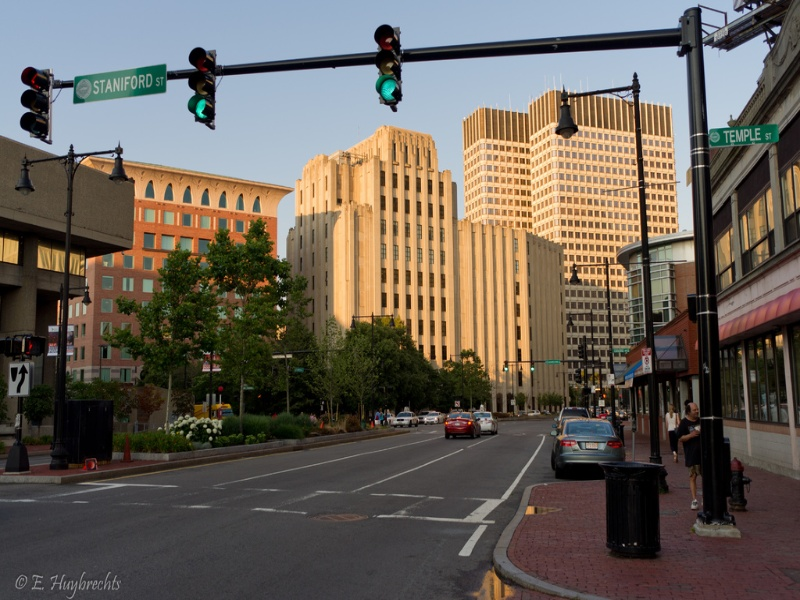green_light: (371, 73, 404, 106), (182, 93, 215, 122)
